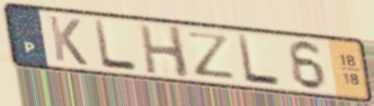6: (286, 39, 330, 92)
H: (136, 23, 192, 81)
K: (46, 13, 90, 68)
L: (234, 32, 284, 89), (91, 18, 140, 74)
Z: (184, 30, 238, 81)
